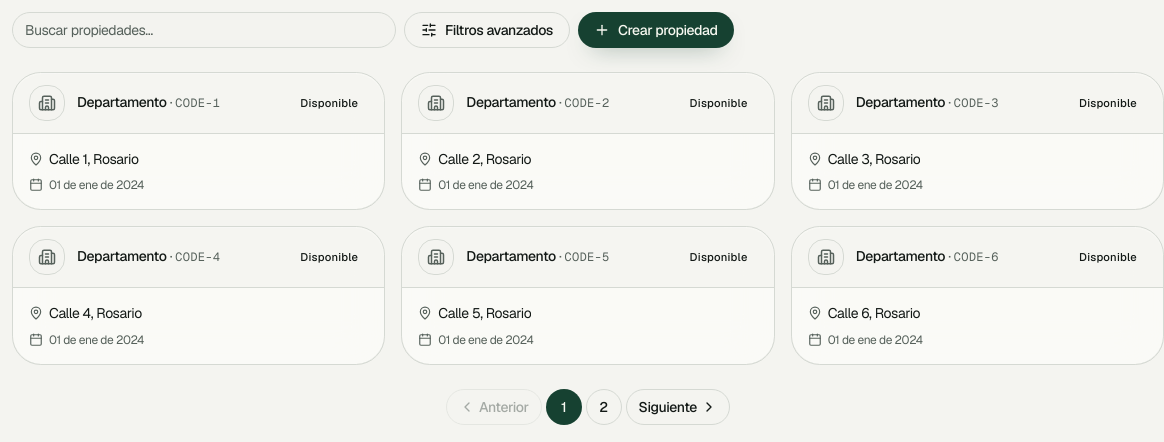
Scenario: PropertyList › renders the "Sin resultados" empty state with CTA for a zero-match query
The image size is (1164, 442).
In the search field with test id "property-toolbar-search": (204, 30) [12, 12, 396, 48], type "zzzzzz"
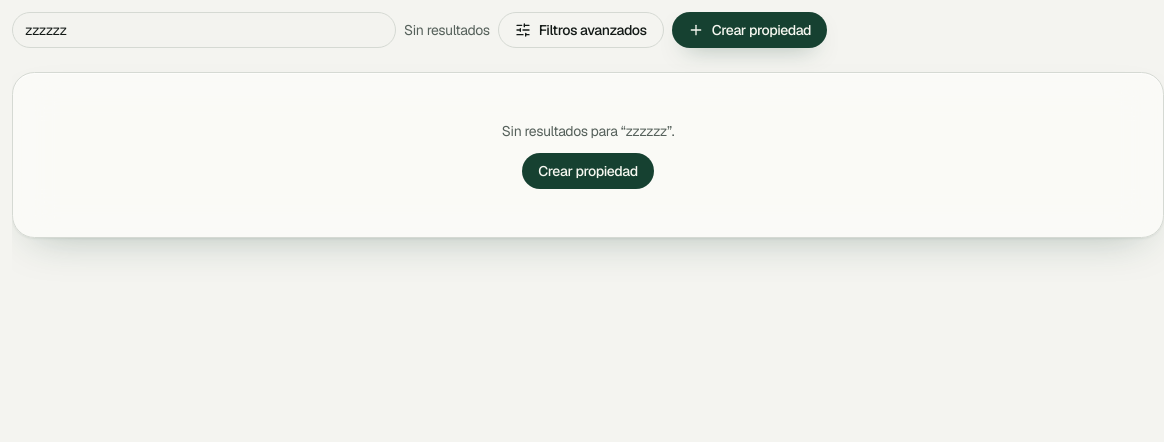
Check: the message "Sin resultados para “zzzzzz”. Crear propiedad" is shown, box [12, 72, 1163, 238]
Check: the message with test id "properties-no-results" shows "Sin resultados", box [502, 122, 674, 140]
Check: the link "Crear propiedad" below "Sin resultados para “zzzzzz”." is shown, box [522, 153, 654, 189]
